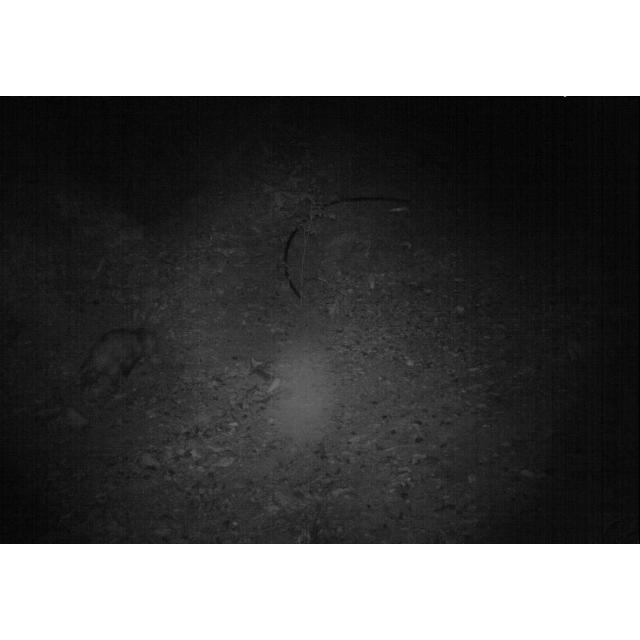animals: (82, 324, 166, 391)
